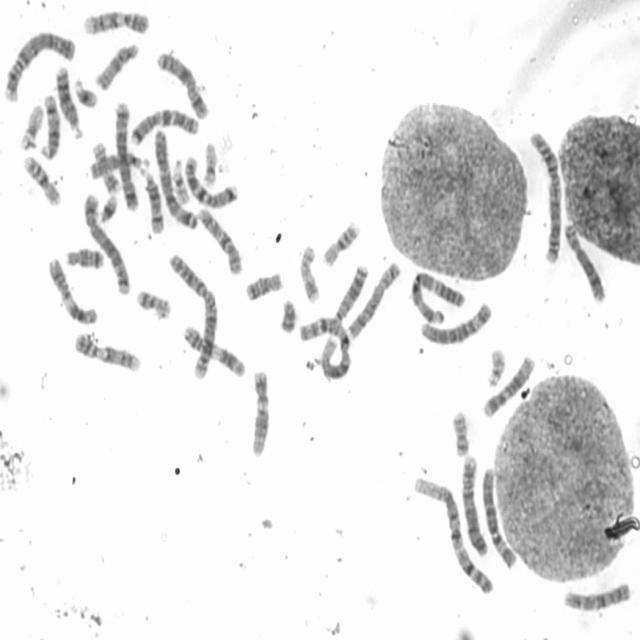A1: (410, 471, 495, 597), (297, 312, 353, 382)
A2: (166, 249, 219, 383), (526, 125, 564, 264)
A3: (152, 125, 199, 231), (408, 267, 467, 326)
B4: (1, 28, 78, 103), (459, 452, 490, 558)
B5: (80, 189, 132, 298), (114, 99, 139, 212)
C10: (196, 203, 244, 277), (560, 579, 633, 613)
C11: (45, 254, 99, 326), (181, 322, 248, 379)
C12: (480, 352, 536, 419), (248, 366, 270, 458)
C6: (479, 464, 518, 570), (417, 298, 494, 348)
C7: (182, 151, 239, 211), (129, 105, 200, 147)
C8: (345, 258, 402, 340), (562, 220, 607, 304)
C9: (72, 330, 144, 375), (80, 6, 150, 36)
D13: (332, 261, 369, 325), (54, 63, 83, 140)
D14: (138, 160, 166, 236), (38, 90, 61, 160)
D15: (93, 40, 140, 92), (86, 148, 151, 182)
E16: (21, 152, 62, 208), (320, 218, 362, 269)
E17: (90, 138, 122, 196), (298, 242, 322, 306)
E18: (242, 268, 283, 302), (63, 244, 105, 271)
F19: (18, 101, 45, 153), (200, 138, 220, 189)
F20: (134, 286, 172, 318), (450, 408, 470, 458)
G21: (73, 76, 99, 109), (96, 191, 120, 224)
G22: (171, 155, 192, 207), (484, 344, 508, 388)
X: (154, 47, 210, 121)
Y: (278, 295, 298, 336)
